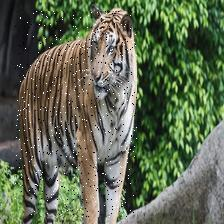tiger: (14, 12, 136, 218)
